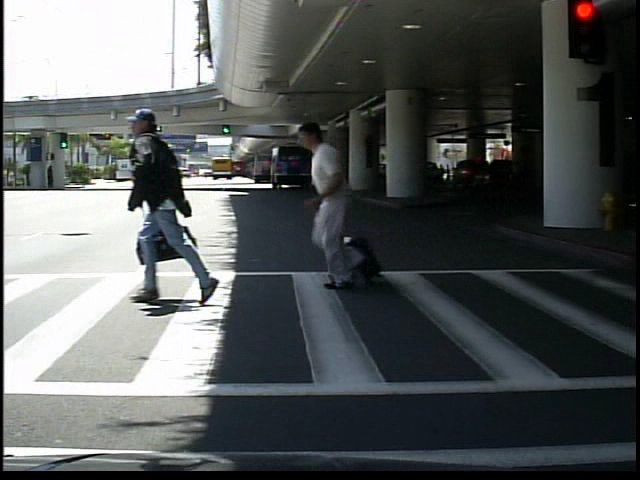person: (127, 114, 214, 309), (309, 114, 377, 291)
